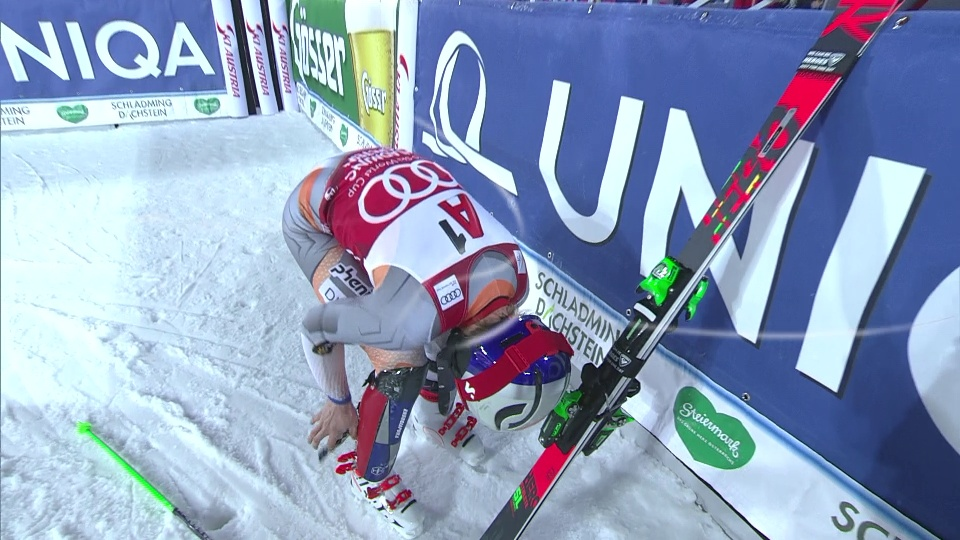a1: (435, 184, 488, 248)
audi: (352, 153, 469, 231), (438, 283, 464, 310)
goesser: (282, 4, 389, 122)
schladming: (534, 277, 627, 399), (98, 98, 175, 129)
steiermark: (655, 384, 777, 478), (55, 101, 96, 126), (192, 97, 224, 118)
uniqa: (426, 30, 880, 329), (1, 1, 214, 90)
